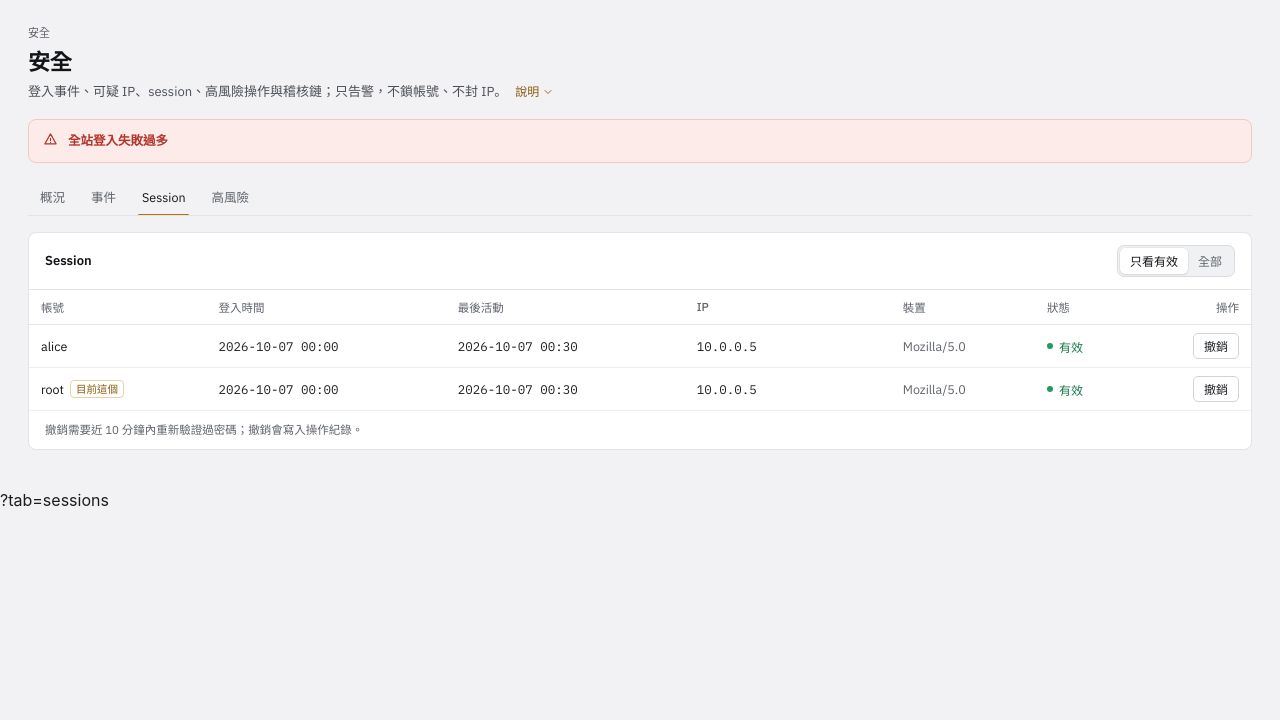
Scenario: 撤銷自己目前的 session：確認框講明後果
Expected: the text "root" is shown, top-left (41, 381), bottom-right (64, 397)
Click the button "撤銷" in the row of "root". click: (1216, 389)
box: top-left (1193, 376), bottom-right (1239, 402)
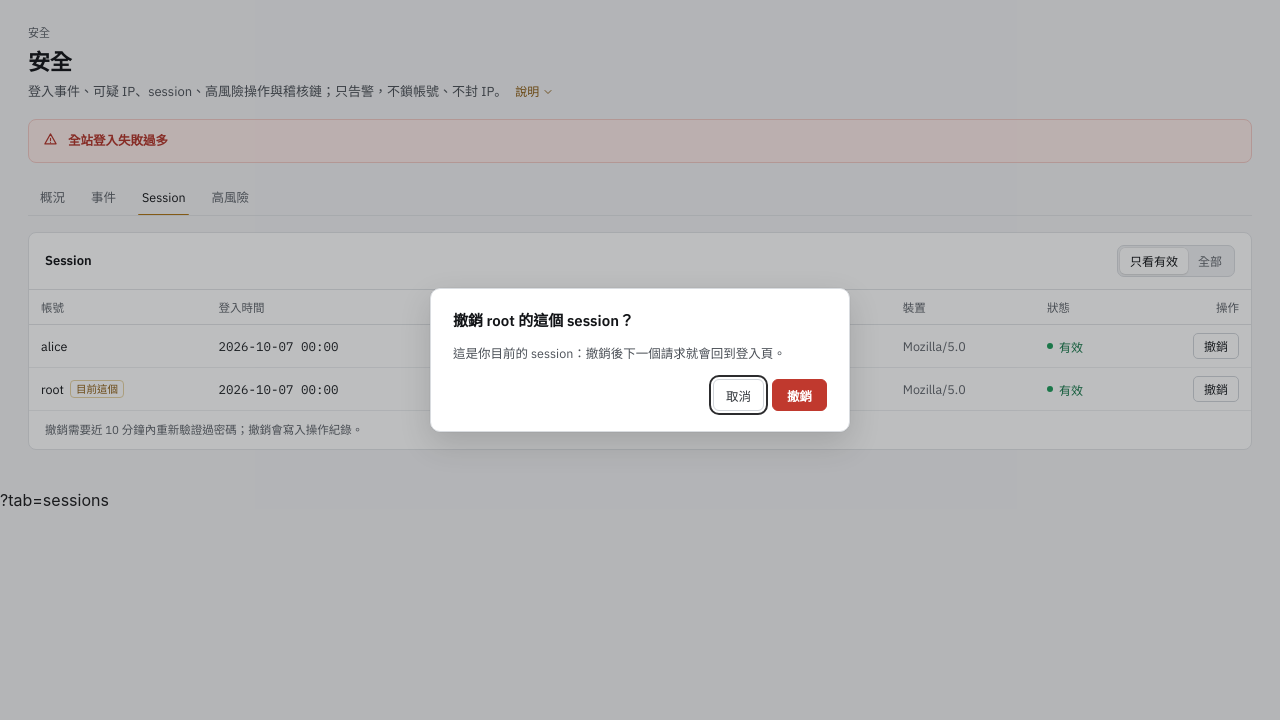
Expected: the text "這是你目前的 session：撤銷後下一個請求就會回到登入頁。" is shown, top-left (453, 343), bottom-right (827, 364)
